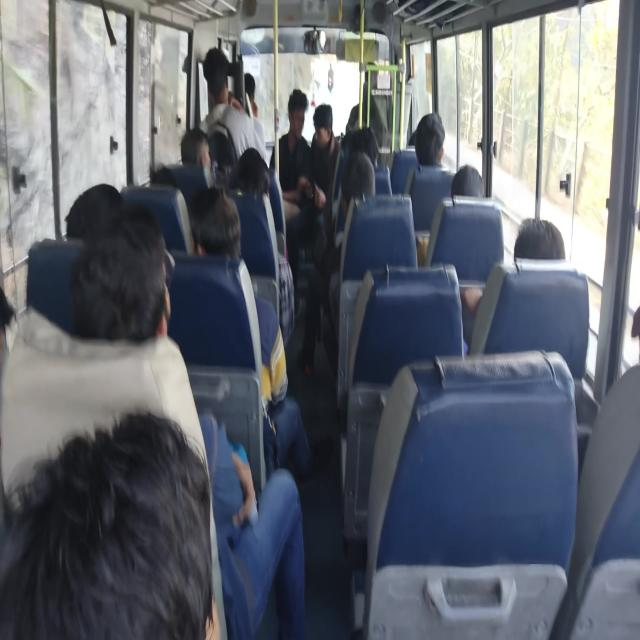person: (2, 47, 579, 636), (69, 203, 306, 638), (1, 408, 222, 638), (187, 185, 312, 480), (199, 413, 306, 638), (298, 150, 376, 377), (461, 216, 566, 353), (199, 46, 267, 165), (269, 89, 313, 222), (309, 102, 341, 234), (64, 182, 123, 240), (514, 216, 566, 260), (180, 127, 213, 187), (414, 112, 446, 167), (450, 164, 484, 198)
